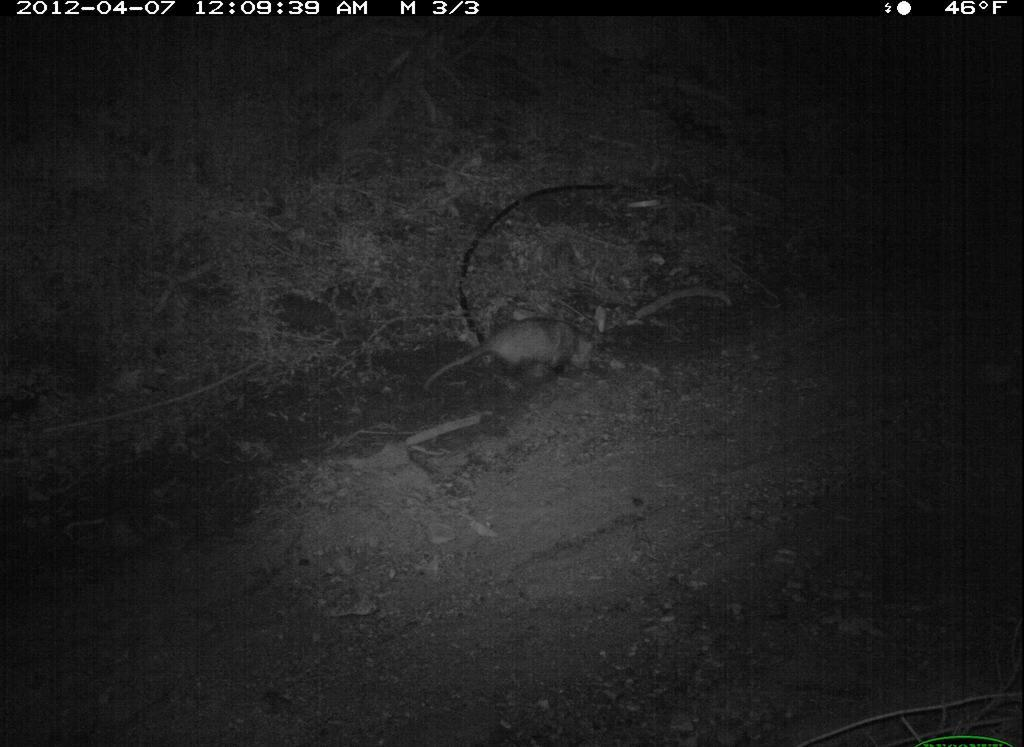opossum: (420, 317, 601, 405)
